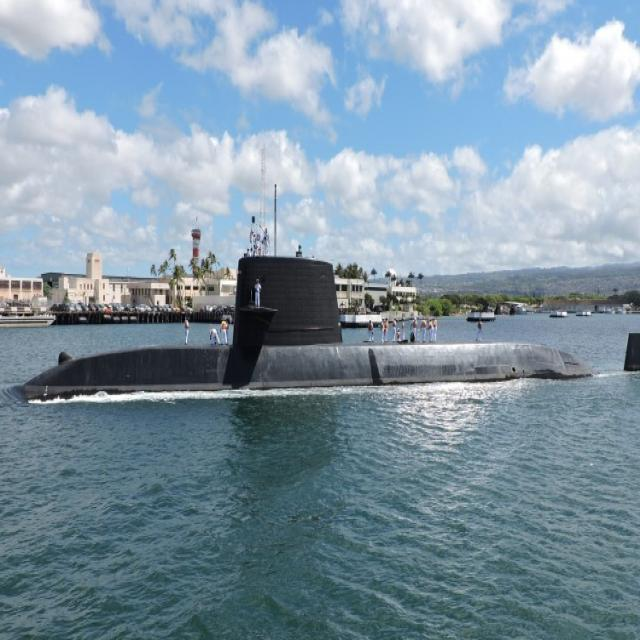submarine: (16, 255, 640, 411)
